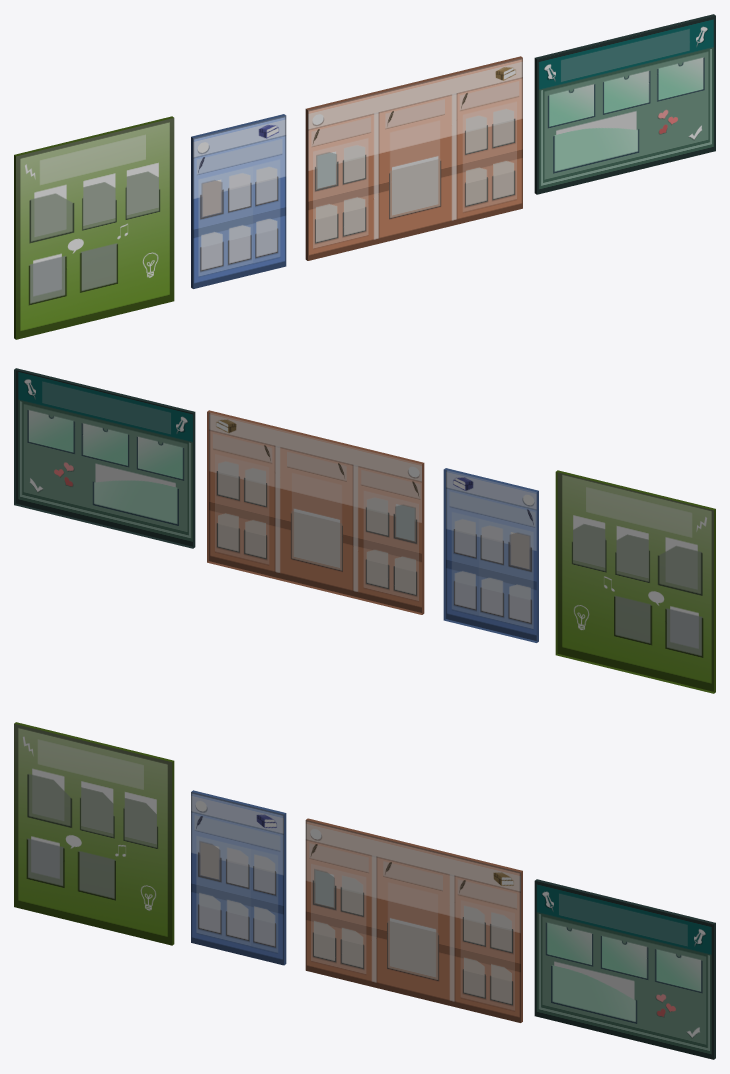
File: school_props_infostands.FBX
The picture shows the model from 3 angles, top to bottom: view 1: azimuth 30°, elevation 25°; view 2: azimuth 150°, elevation 25°; view 3: azimuth 330°, elevation 25°; orthographic projection.
Parts seen in each view (by area): view 1: school_props_infostands3, school_props_infostands1, school_props_infostands4, school_props_infostands2; view 2: school_props_infostands3, school_props_infostands1, school_props_infostands4, school_props_infostands2; view 3: school_props_infostands3, school_props_infostands1, school_props_infostands4, school_props_infostands2.
Part boxes in pixels (<box>): school_props_infostands3: <box>305,56,522,260</box>; school_props_infostands1: <box>14,116,174,339</box>; school_props_infostands4: <box>534,14,715,194</box>; school_props_infostands2: <box>191,114,286,288</box>; school_props_infostands3: <box>207,410,424,614</box>; school_props_infostands1: <box>555,470,715,693</box>; school_props_infostands4: <box>14,368,195,548</box>; school_props_infostands2: <box>443,468,538,642</box>; school_props_infostands3: <box>305,818,522,1022</box>; school_props_infostands1: <box>14,722,174,945</box>; school_props_infostands4: <box>534,879,715,1059</box>; school_props_infostands2: <box>191,790,286,965</box>.
Size of the model in its own units: 563 by 141 by 2.92.
1 material, 1 textured.
